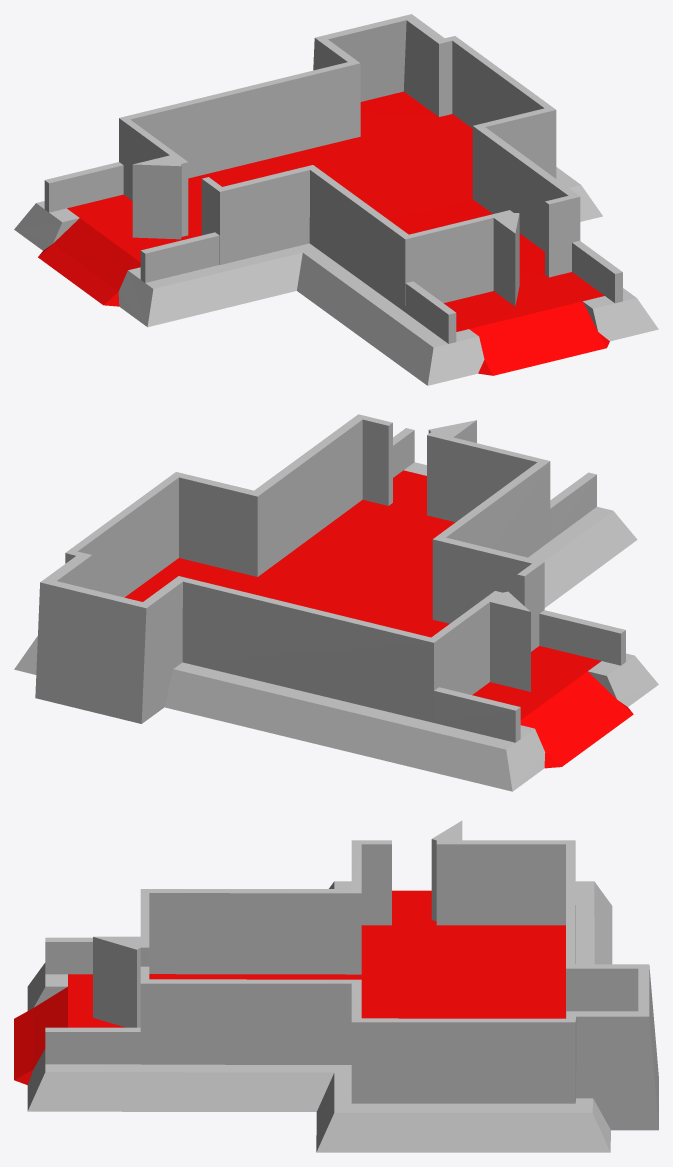
The model's file is house_01_collision.fbx.
3 renders of one model, top to bottom at view 1: azimuth 30°, elevation 25°; view 2: azimuth 150°, elevation 25°; view 3: azimuth 270°, elevation 25°, orthographic. The views are drawn at different scales.
Visible parts, largest first — view 1: obj1.001; view 2: obj1.001; view 3: obj1.001.
Boxes of the visible parts, <box> form: obj1.001: <box>14,14,658,385</box>; obj1.001: <box>14,414,658,791</box>; obj1.001: <box>14,820,658,1152</box>.
Bounding box in the file's own units: 19.56 × 4.12 × 21.14.
